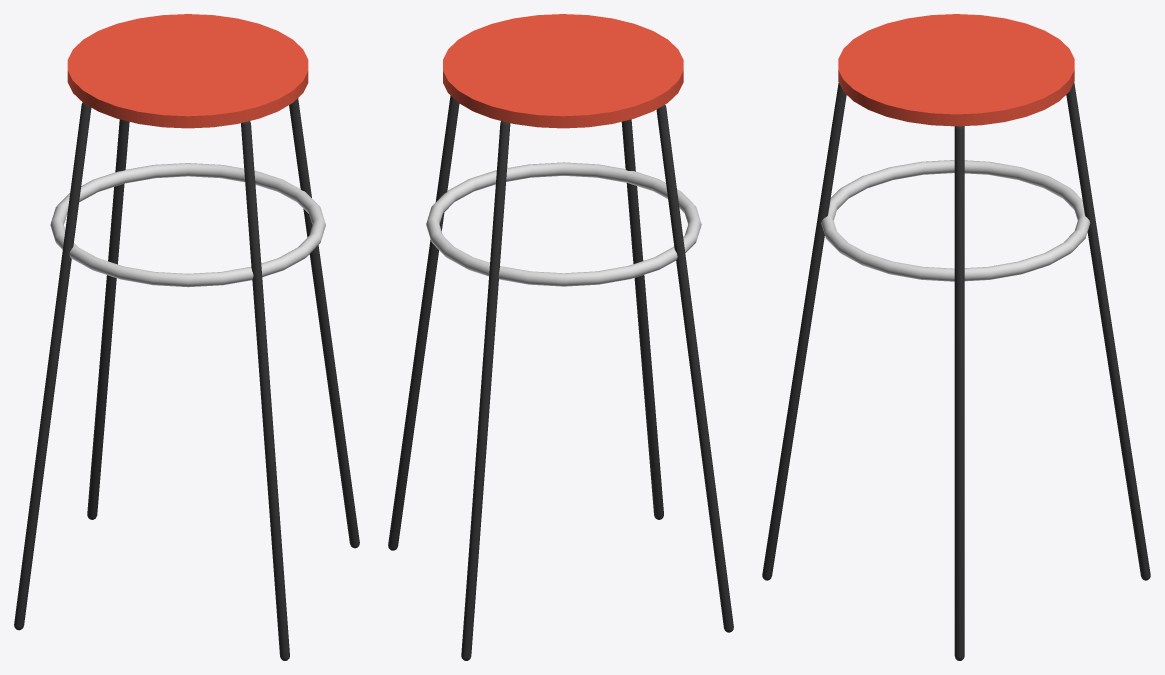
The model's file is chair2.FBX.
The picture shows the model from 3 angles, left to right: view 1: azimuth 30°, elevation 25°; view 2: azimuth 150°, elevation 25°; view 3: azimuth 270°, elevation 25°; orthographic projection.
Visible parts, largest first — view 1: Cylinder001, Torus001, ChamferBox004, ChamferBox002, ChamferBox001, ChamferBox003; view 2: Cylinder001, Torus001, ChamferBox003, ChamferBox002, ChamferBox001, ChamferBox004; view 3: Cylinder001, Torus001, ChamferBox001, ChamferBox003, ChamferBox004.
Boxes of the visible parts, bbox=[...] form: Cylinder001: bbox=[67, 14, 308, 128]; Torus001: bbox=[50, 163, 325, 287]; ChamferBox004: bbox=[241, 121, 289, 660]; ChamferBox002: bbox=[14, 102, 91, 630]; ChamferBox001: bbox=[289, 98, 359, 548]; ChamferBox003: bbox=[87, 119, 129, 519]; Cylinder001: bbox=[443, 14, 683, 128]; Torus001: bbox=[426, 162, 701, 286]; ChamferBox003: bbox=[461, 121, 510, 660]; ChamferBox002: bbox=[656, 105, 733, 632]; ChamferBox001: bbox=[388, 95, 459, 550]; ChamferBox004: bbox=[621, 119, 663, 519]; Cylinder001: bbox=[838, 14, 1074, 126]; Torus001: bbox=[821, 160, 1090, 281]; ChamferBox001: bbox=[954, 126, 964, 660]; ChamferBox003: bbox=[1066, 82, 1150, 580]; ChamferBox004: bbox=[762, 83, 846, 580].
Size of the model in its own units: 592 by 862 by 588.
